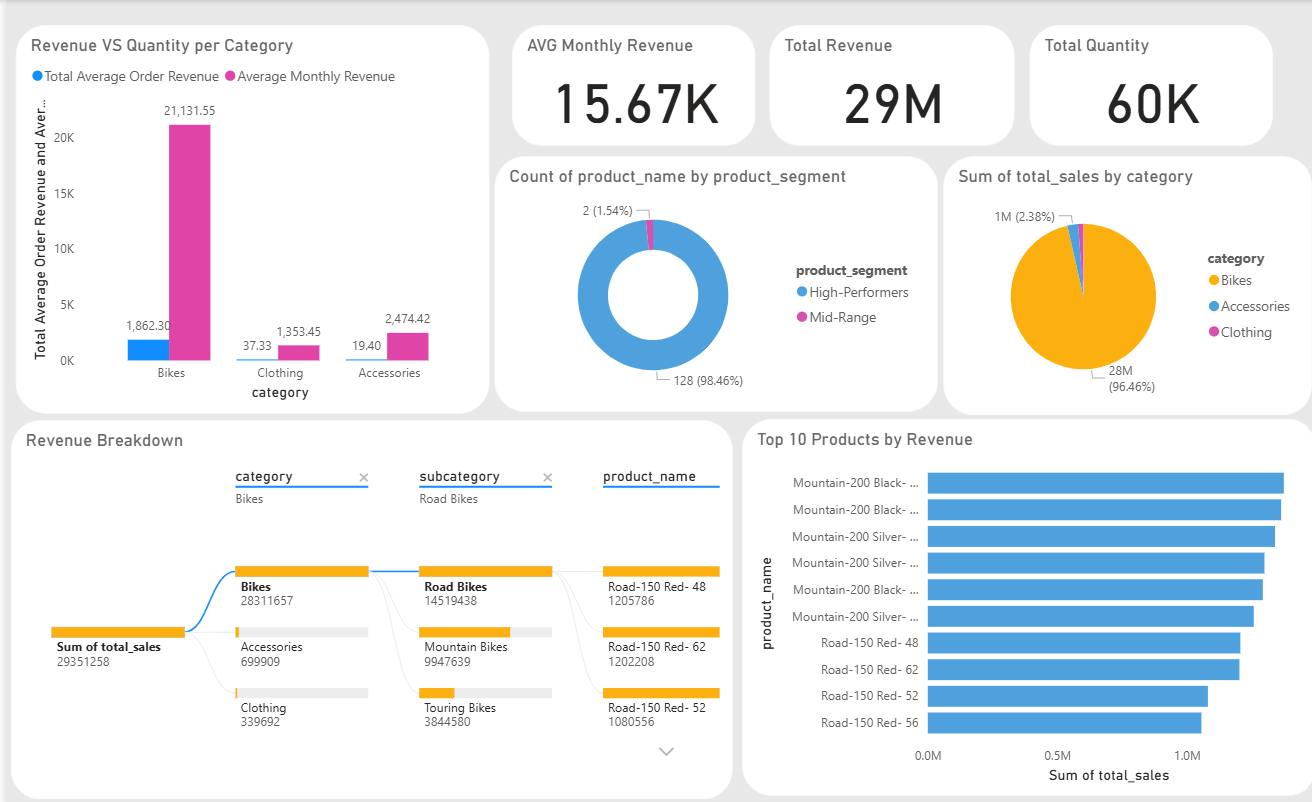

The page's visual inventory and layout, read from the dashboard file:
{"tool":"powerbi","page":{"name":"Product_View","canvas":[1289,792],"ordinal":0},"visuals":[{"type":"pieChart","fields":{"Category":["gold PProduct_report.category"],"Y":["Sum(gold PProduct_report.total_sales)"]},"box":[916.7,152.6,362.2,253.4],"z":0},{"type":"clusteredBarChart","title":"Top 10 Products by Revenue","fields":{"Category":["gold PProduct_report.product_name"],"Y":["Sum(gold PProduct_report.total_sales)"]},"box":[719.8,410.1,564.3,369.7],"z":1000},{"type":"decompositionTreeVisual","title":"Revenue Breakdown","fields":{"ExplainBy":["gold PProduct_report.category","gold PProduct_report.subcategory","gold PProduct_report.product_name"],"Analyze":["Sum(gold PProduct_report.total_sales)"]},"box":[3.7,411.3,707.5,372.1],"z":2000},{"type":"donutChart","fields":{"Category":["gold PProduct_report.product_segment"],"Y":["CountNonNull(gold PProduct_report.product_name)"]},"box":[477.9,153.1,434.3,250.1],"z":3000},{"type":"card","title":"Total Revenue","fields":{"Values":["Sum(gold PProduct_report.total_sales)"]},"box":[746.9,23.9,240.1,118.1],"z":4000},{"type":"card","title":"Total Quantity","fields":{"Values":["Sum(gold PProduct_report.total_quantity_sold)"]},"box":[1001.6,23.9,238.8,118.1],"z":5000},{"type":"card","title":"AVG Monthly Revenue","fields":{"Values":["gold fact_sales.Average Monthly Revenue"]},"box":[494.8,23.9,238.8,118.1],"z":6000},{"type":"clusteredColumnChart","title":"Revenue VS Quantity per Category","fields":{"Category":["gold PProduct_report.category"],"Y":["gold fact_sales.Total Average Order Revenue","gold fact_sales.Average Monthly Revenue"]},"box":[8,23.9,464.3,380.7],"z":7000}]}

Visuals, with their boxes in screenshot pixels (x1, y1, x2, y2), scaled from the page's 1289x792 canvas onto the 1312x802 screenshot:
pieChart - gold PProduct_report.category x Sum(gold PProduct_report.total_sales): pyautogui.locateOnScreen(933, 155, 1302, 411)
"Top 10 Products by Revenue" clusteredBarChart: pyautogui.locateOnScreen(733, 415, 1307, 790)
"Revenue Breakdown" decompositionTreeVisual: pyautogui.locateOnScreen(4, 416, 724, 793)
donutChart - gold PProduct_report.product_segment x CountNonNull(gold PProduct_report.product_name): pyautogui.locateOnScreen(486, 155, 928, 408)
"Total Revenue" card: pyautogui.locateOnScreen(760, 24, 1005, 144)
"Total Quantity" card: pyautogui.locateOnScreen(1019, 24, 1263, 144)
"AVG Monthly Revenue" card: pyautogui.locateOnScreen(504, 24, 747, 144)
"Revenue VS Quantity per Category" clusteredColumnChart: pyautogui.locateOnScreen(8, 24, 481, 410)
